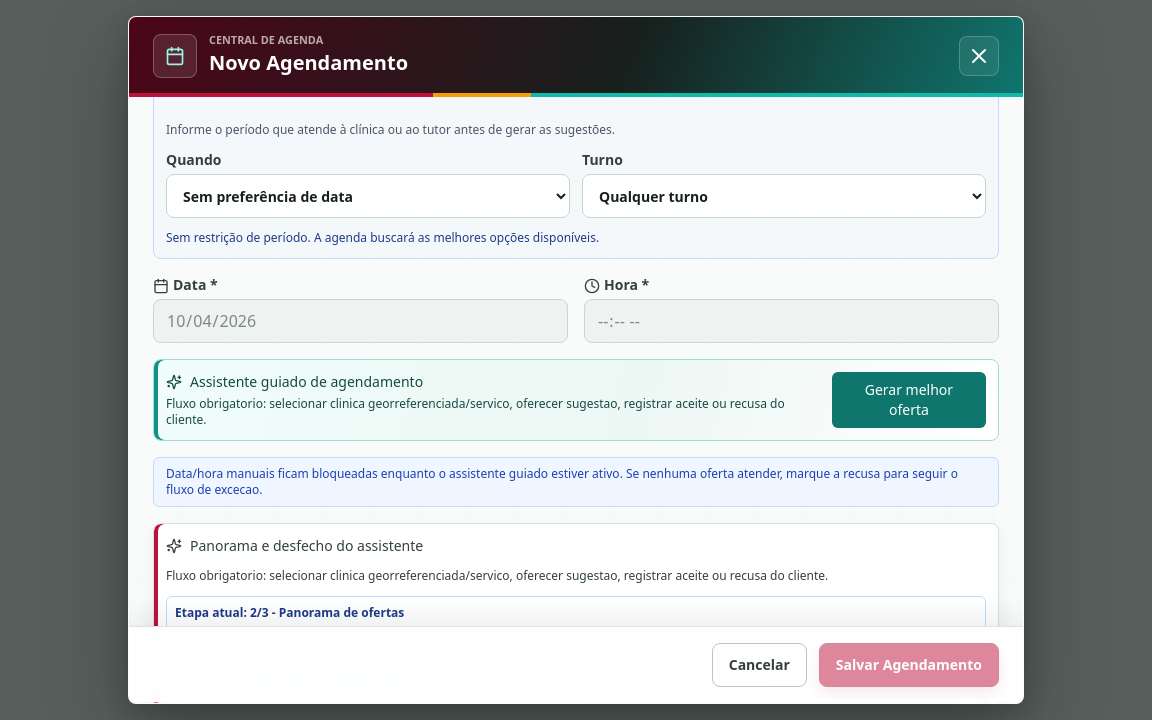
Test: preferências antes das ofertas › descarta oferta vencida quando a API reprova o horario exato no aceite
(page scrolled)
Click the button "Gerar melhor oferta" at [909, 400], box [832, 372, 986, 428]
(page scrolled)
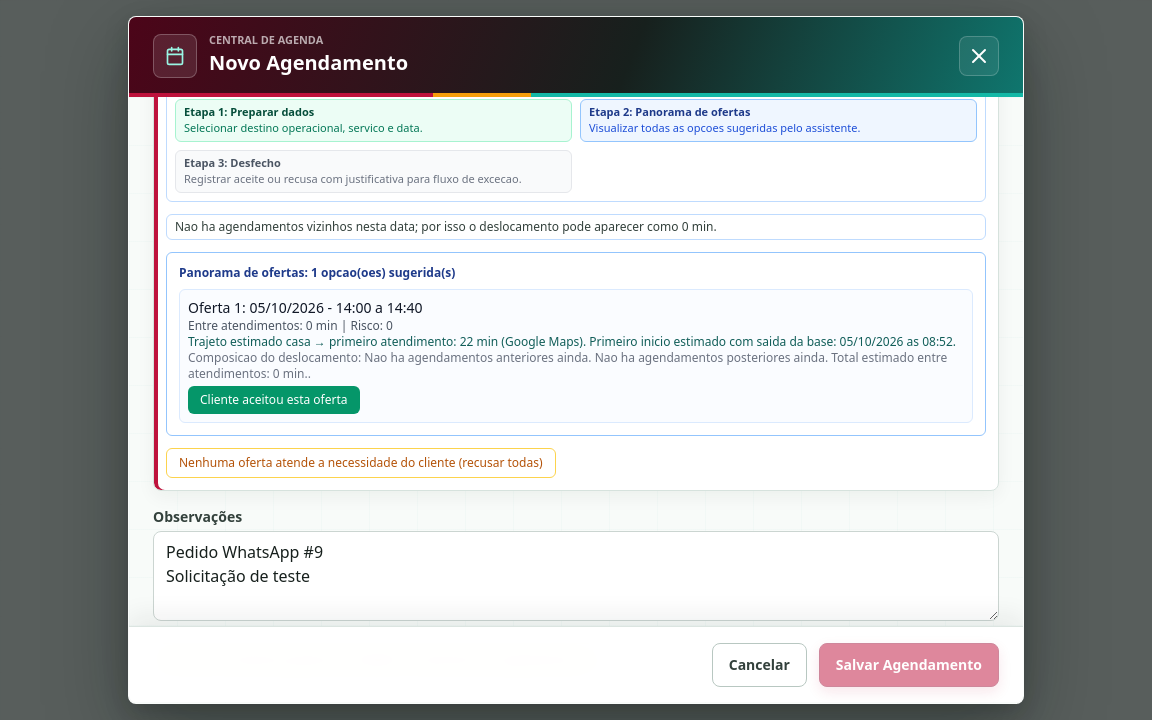
Click the button "Cliente aceitou esta oferta" at [274, 400], box [188, 386, 360, 414]
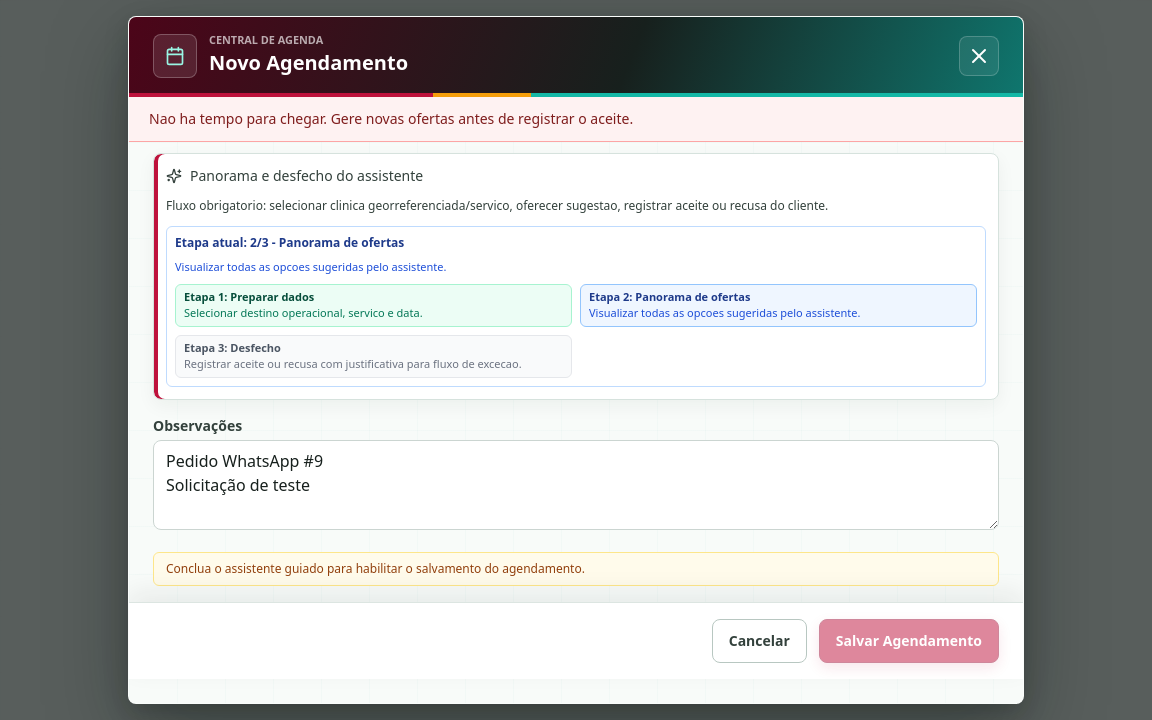
expect the button "Salvar Agendamento" is disabled: met, box [819, 618, 999, 662]
expect the message shows "Nao ha tempo para chegar. Gere novas ofertas": met, box [149, 109, 633, 128]
expect the text "Oferta 1:" is gone: met
